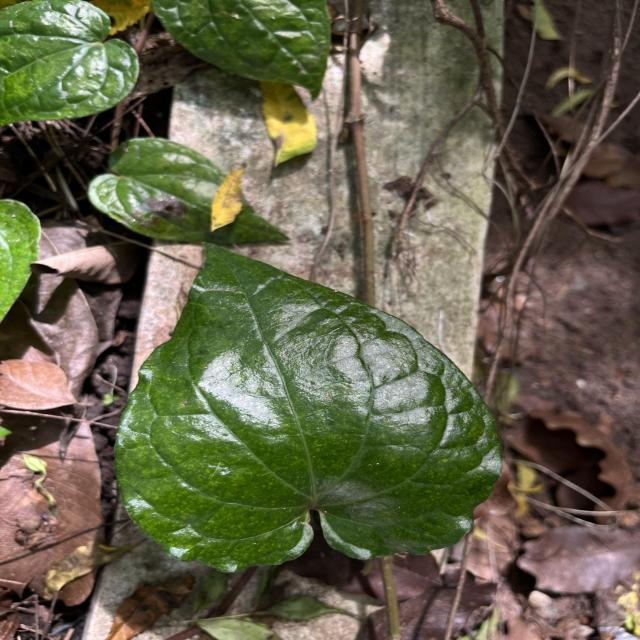Piper betle: (110, 237, 507, 575)
